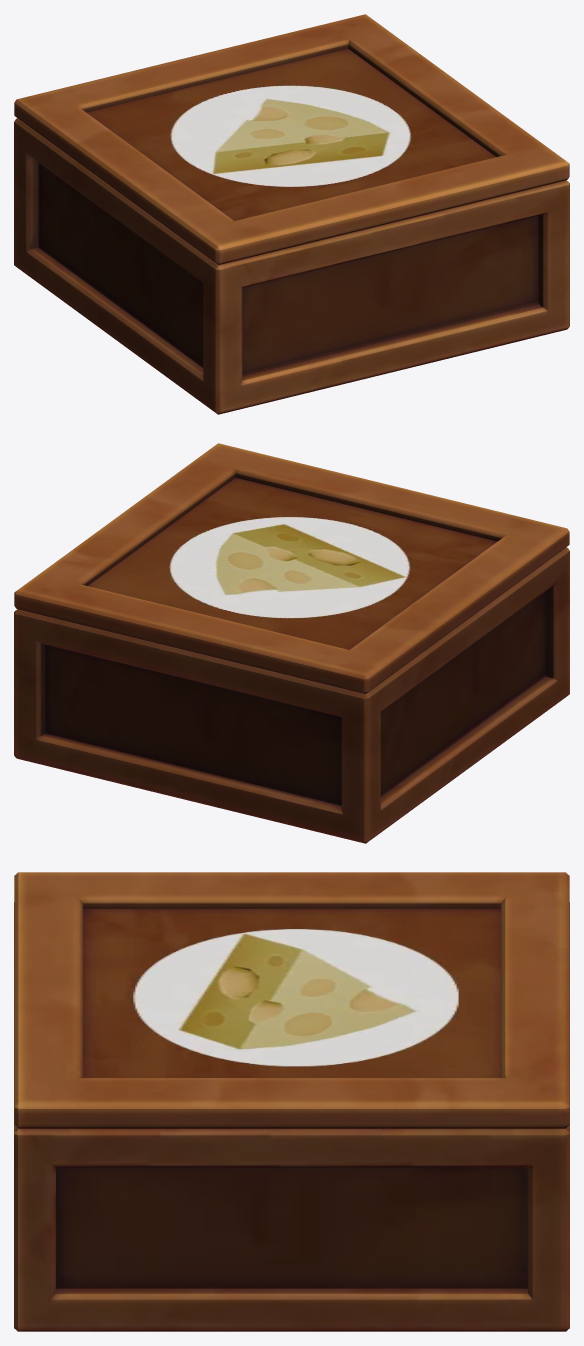
File: cheeseTable.glb
The picture shows the model from 3 angles, top to bottom: view 1: azimuth 30°, elevation 25°; view 2: azimuth 150°, elevation 25°; view 3: azimuth 270°, elevation 25°; orthographic projection. The views are drawn at different scales.
Visible parts, largest first — view 1: box, cover, desktop; view 2: box, cover, desktop; view 3: box, cover, desktop.
Part boxes in pixels (<box>): box: <box>14,118,569,414</box>; cover: <box>14,14,569,264</box>; desktop: <box>87,49,495,220</box>; box: <box>14,547,569,843</box>; cover: <box>14,443,569,693</box>; desktop: <box>88,478,496,649</box>; box: <box>14,902,569,1331</box>; cover: <box>14,872,569,1128</box>; desktop: <box>83,909,500,1077</box>.
Bounding box in the file's own units: 2 × 0.9056 × 2.
3 materials, 3 textured.
